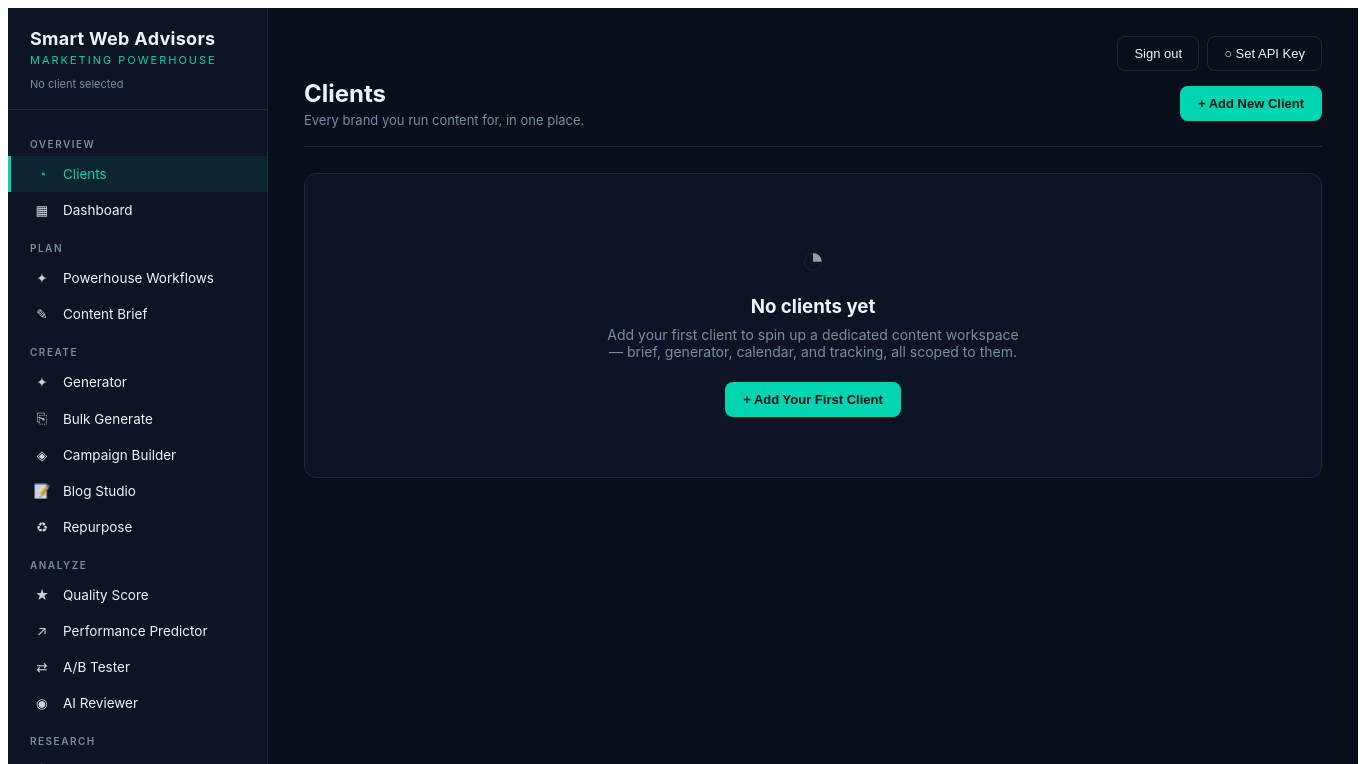
Scenario: the client form asks who they sell to
Step 1. Click the button "+ Add New Client" → (1251, 104), box [1180,86,1322,121]
(page scrolled)
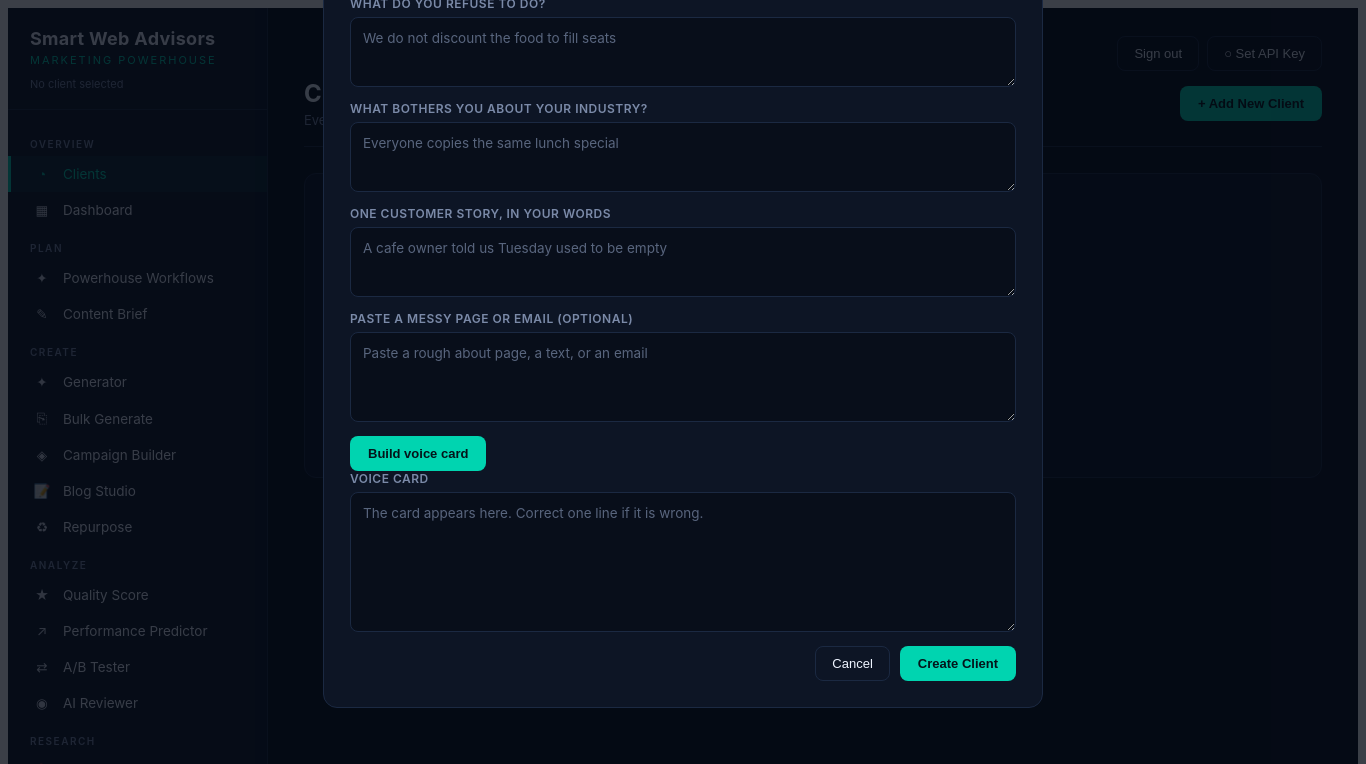
Expected: the text "What do you refuse to do?" is shown, [350,0,546,11]
Expected: the text "What bothers you about your industry?" is shown, [350,101,648,116]
Expected: the button "Build voice card" is shown
Step 2. Click the button "Build voice card" → (418, 454), box [350,436,486,471]
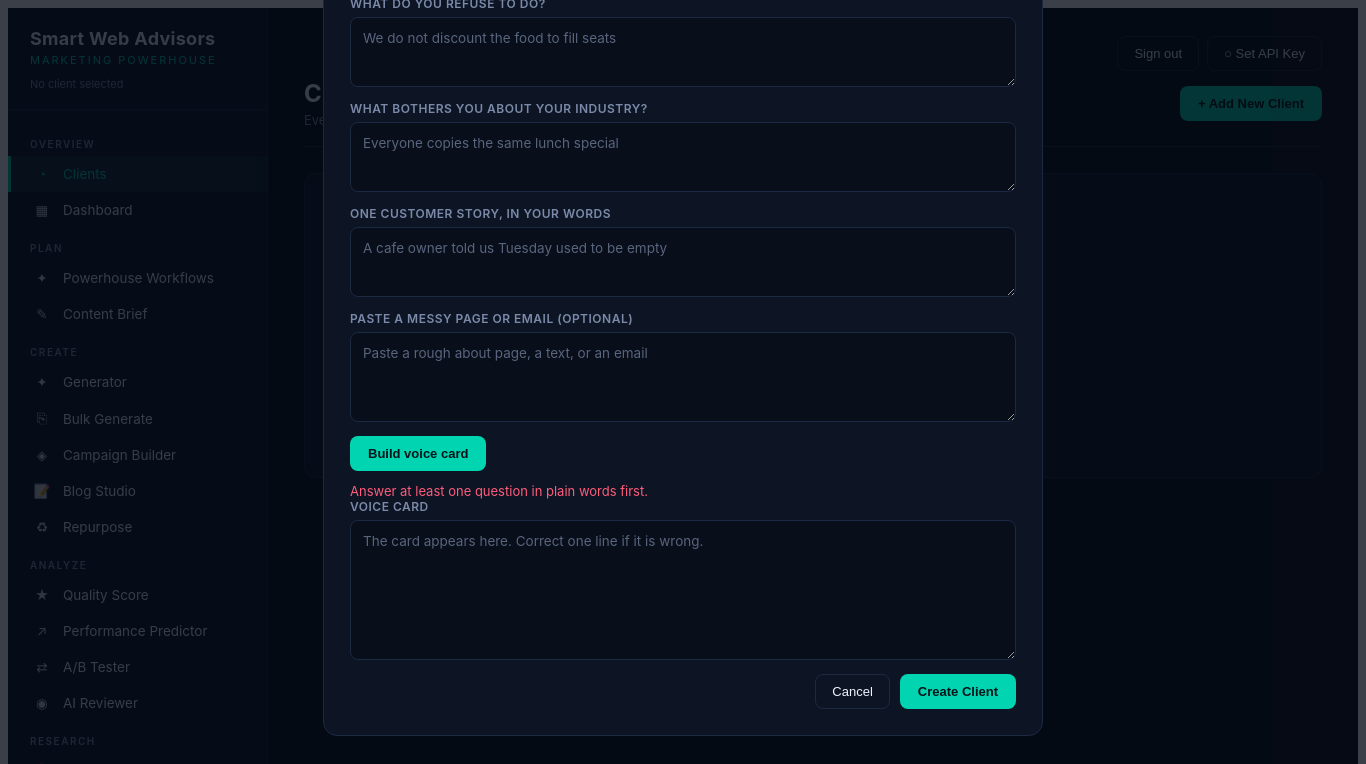
Expected: the text "Answer at least one question in plain words first." is shown, [350,483,648,499]
